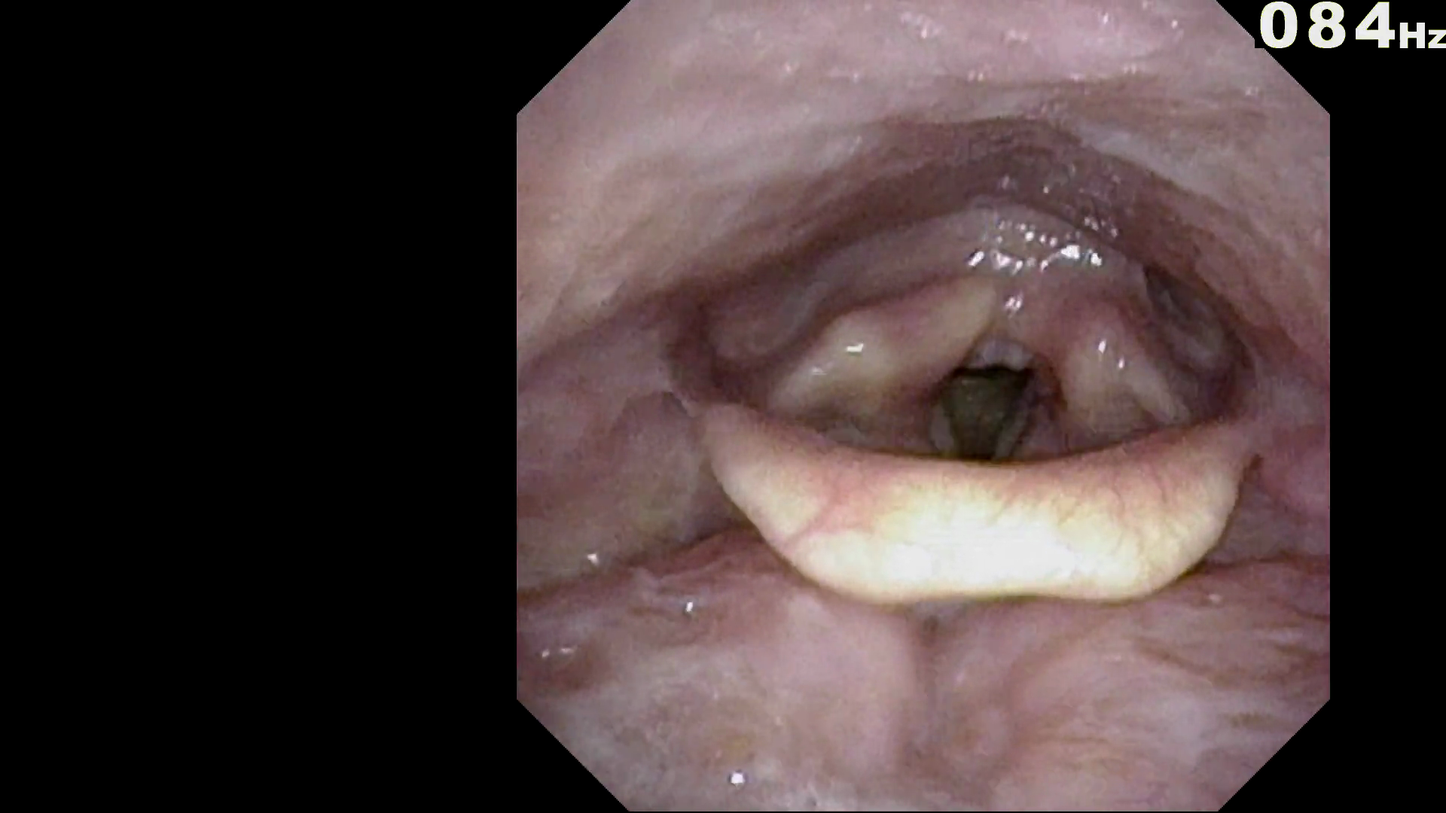epiglottis: (680, 364, 1277, 659)
trachea: (905, 338, 1065, 502)
